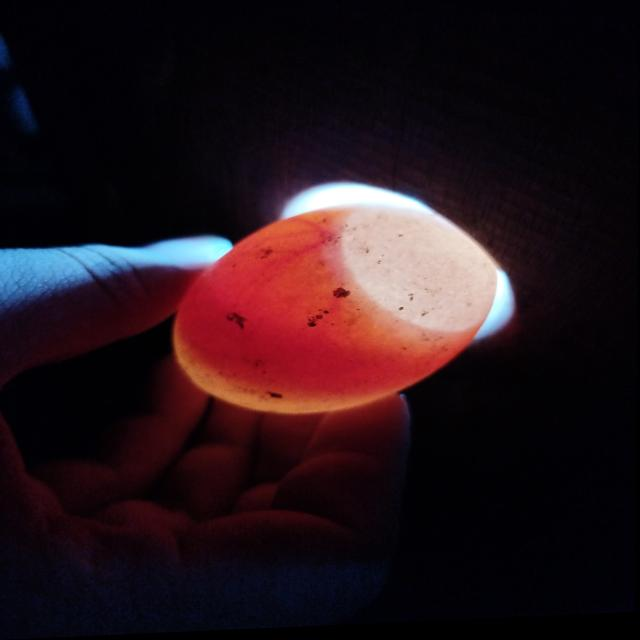Camara de Ar: (342, 203, 499, 334)
Gema Quebrada: (178, 205, 484, 401)
